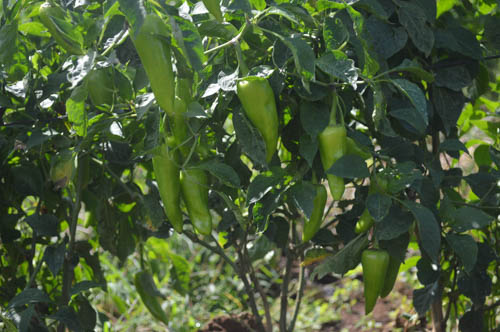ChiliPepper: (133, 18, 175, 115), (237, 76, 277, 163), (150, 150, 185, 229), (319, 125, 350, 202), (182, 167, 214, 238), (359, 250, 391, 317)
